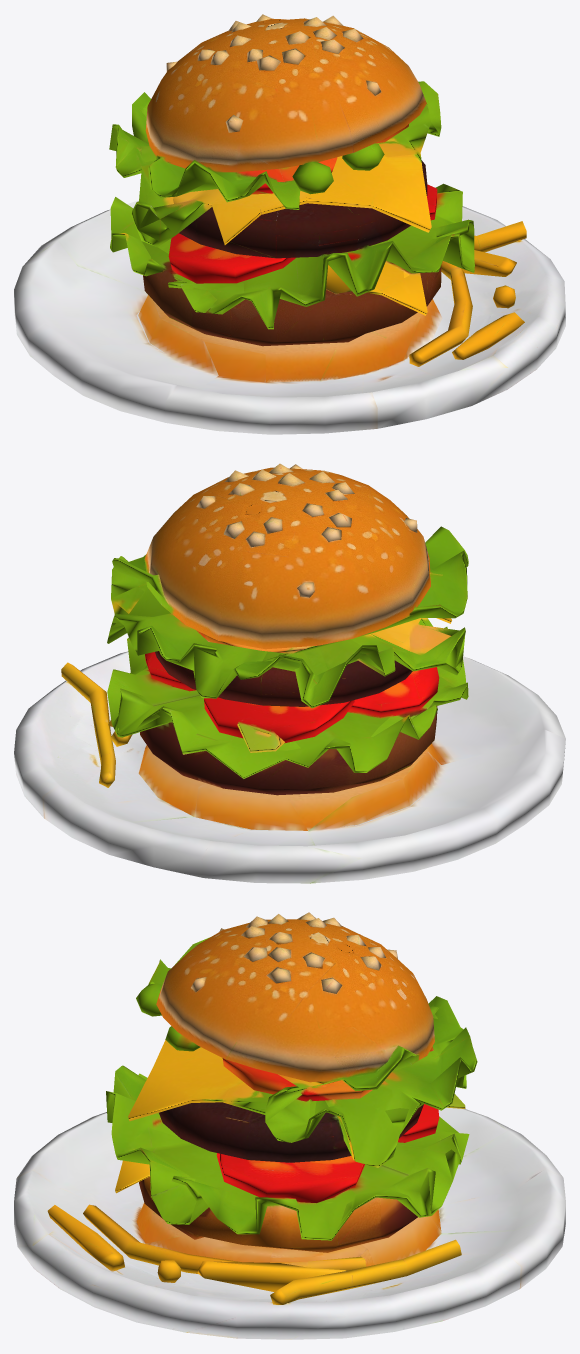
Rendered from food_burger.glb.
3 views of the same model, one above another, from view 1: azimuth 30°, elevation 25°; view 2: azimuth 150°, elevation 25°; view 3: azimuth 270°, elevation 25° (orthographic).
Bounding box in the file's own units: 1 × 0.5888 × 1.
Materials: 1 (1 with a texture image).
